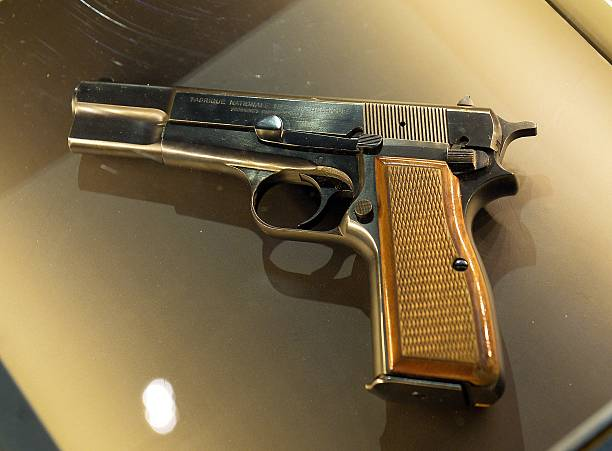pistol: (60, 72, 537, 416)
